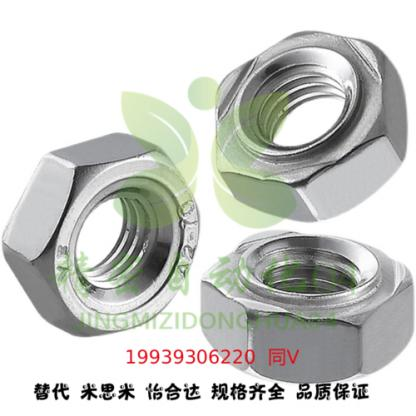FOD: (0, 128, 202, 340), (211, 28, 412, 223), (198, 228, 415, 387)
